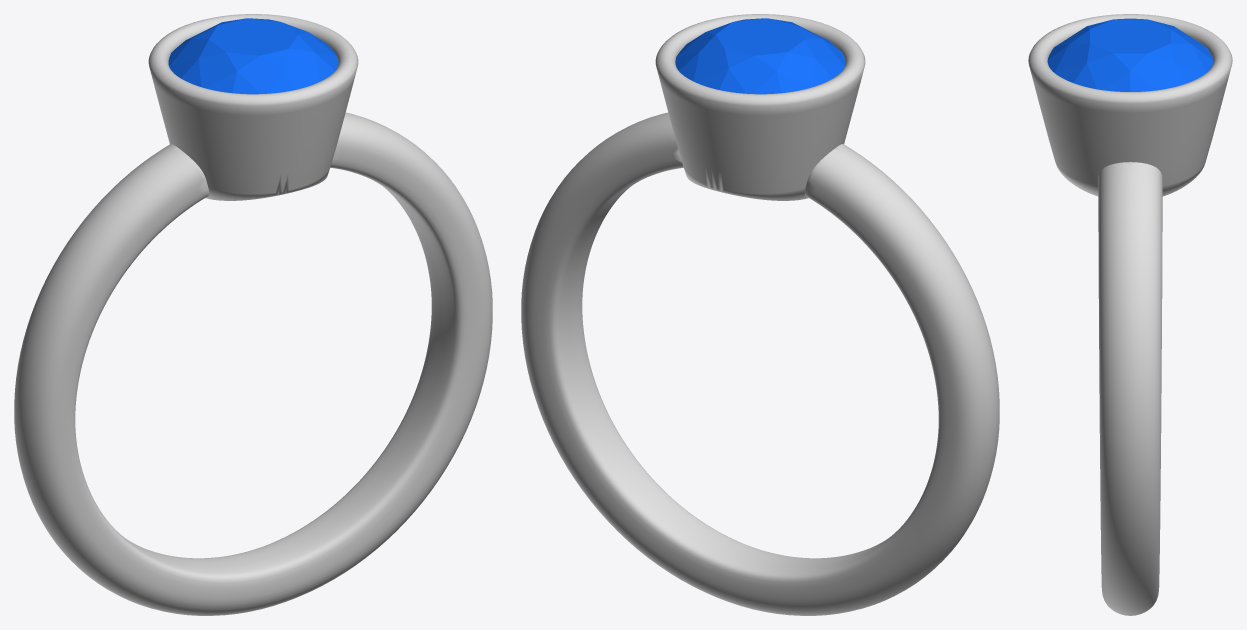
Rendered from bluesapphire-round-platinum-bezelset-straightband-nosidestones.glb.
3 views of the same model, side by side, from view 1: azimuth 30°, elevation 25°; view 2: azimuth 150°, elevation 25°; view 3: azimuth 270°, elevation 25° (orthographic). The views are drawn at different scales.
Visible parts, largest first — view 1: metal, stone; view 2: metal, stone; view 3: metal, stone.
Boxes of the visible parts, <box> form: metal: <box>14,14,492,615</box>; stone: <box>168,18,338,94</box>; metal: <box>521,14,999,615</box>; stone: <box>675,18,845,94</box>; metal: <box>1028,14,1232,615</box>; stone: <box>1047,18,1213,91</box>.
Bounding box in the file's own units: 20.5 × 23.81 × 7.94.
